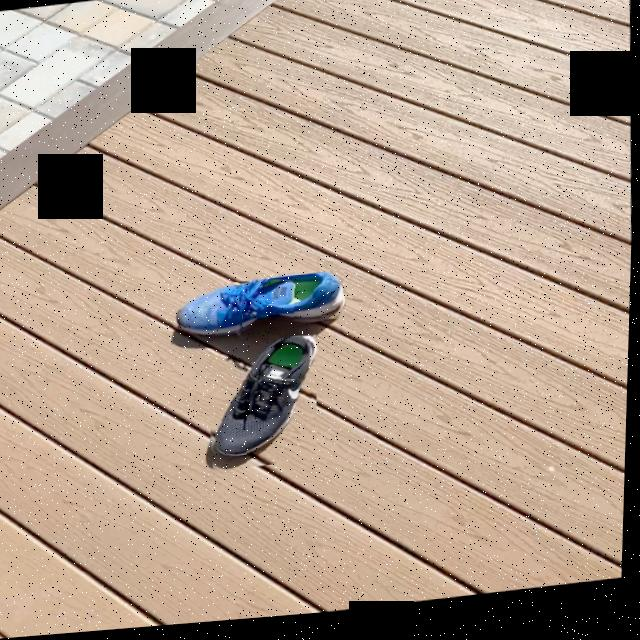shoe: (214, 341, 318, 475), (175, 277, 345, 341)
